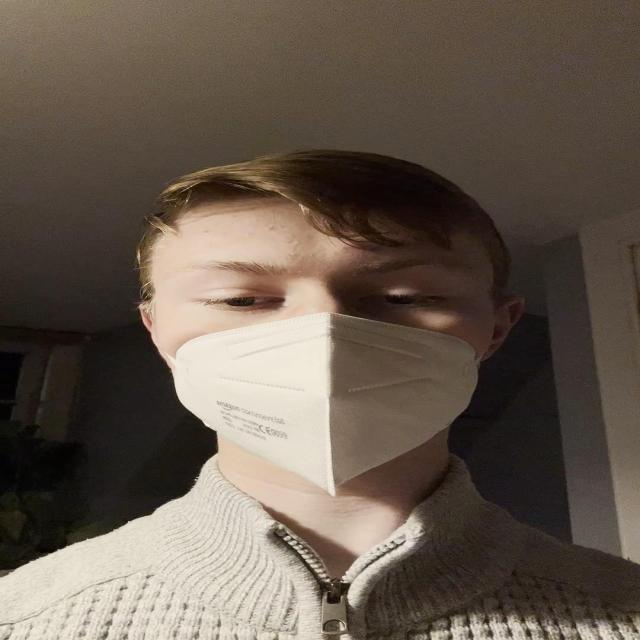no-helmet: (138, 164, 507, 493)
